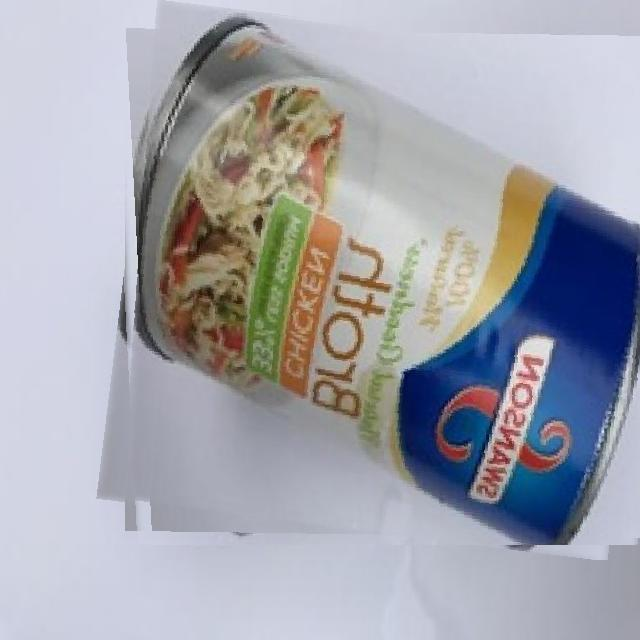recyclable: (110, 13, 640, 545)
